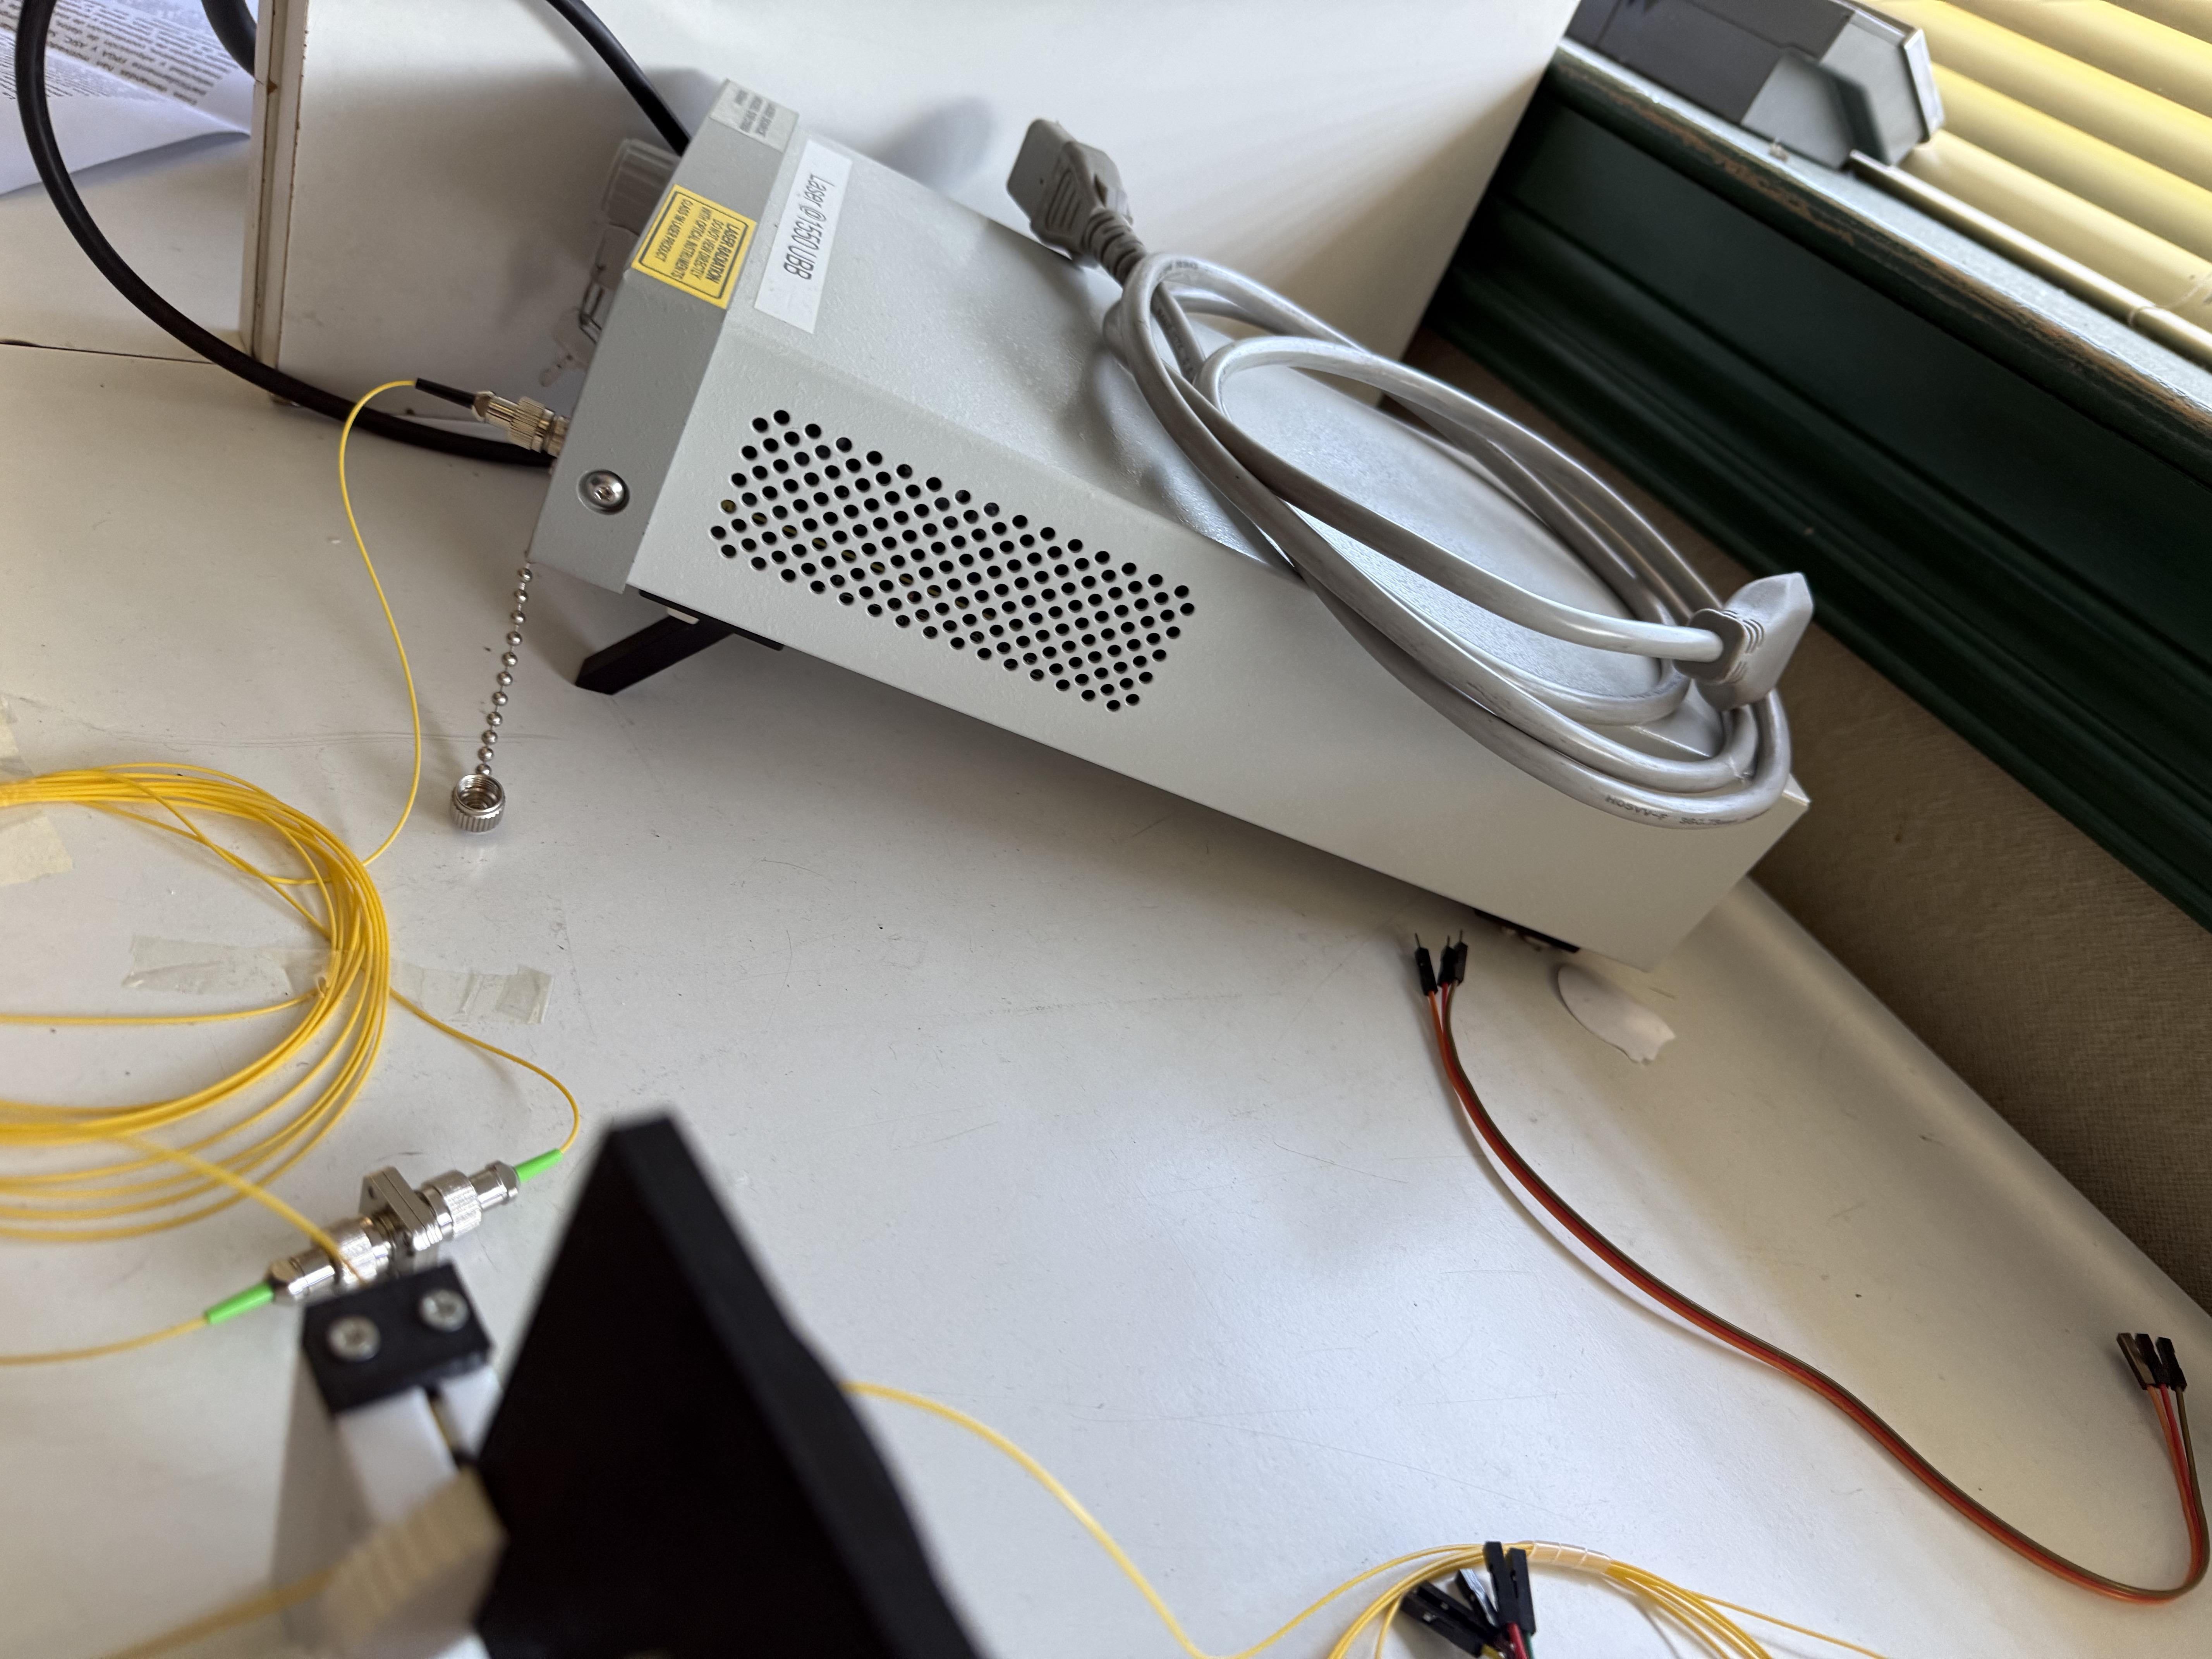fiber_cable: (5, 737, 644, 1417)
laser: (489, 49, 1921, 1032)
